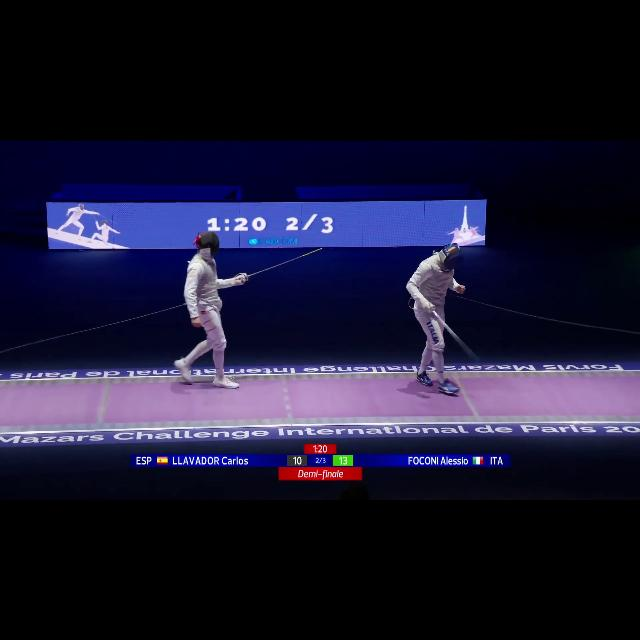blade: (427, 301, 485, 369), (239, 243, 327, 285)
